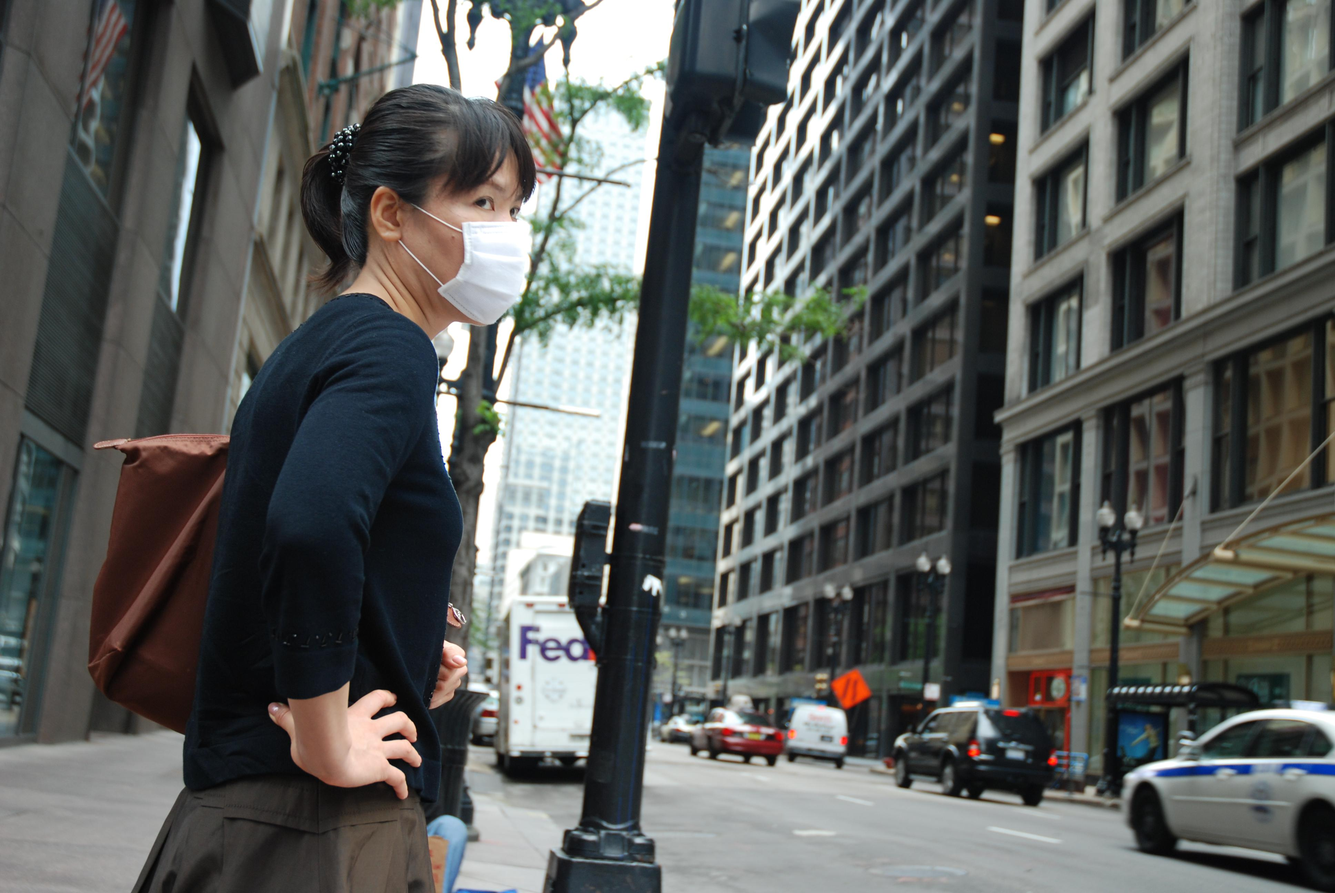OK: (363, 158, 531, 326)
